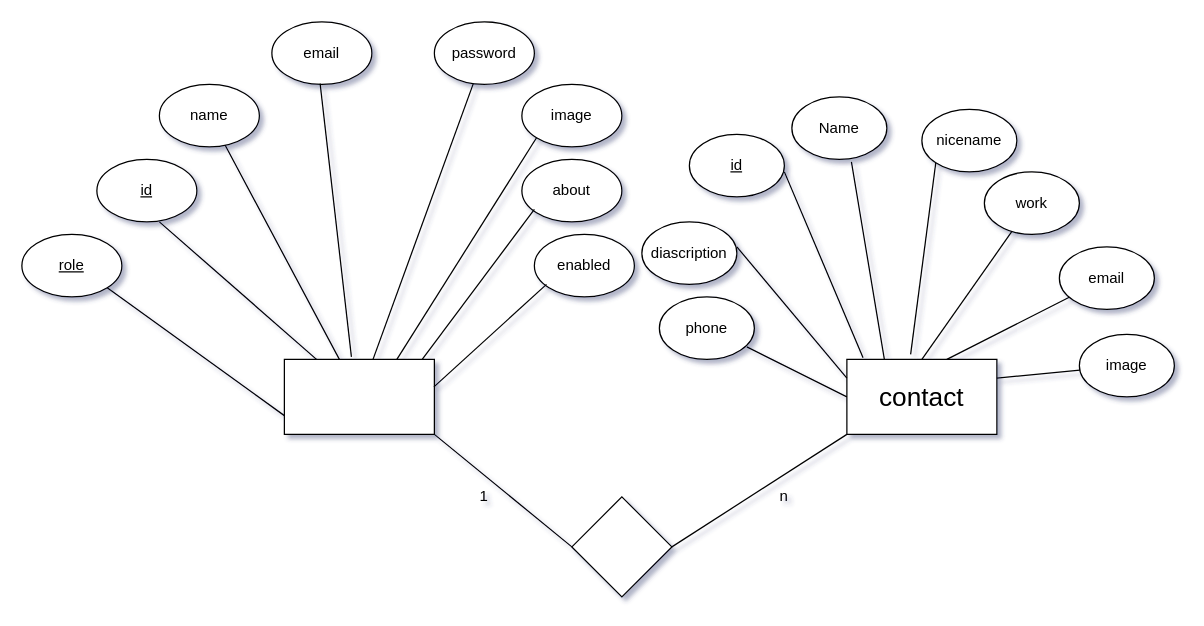
Image size: 1204x626. Some labels were removed from this diagram. Each missing label, with the centre of its shape:
has: point 621,546
user: point 358,396
